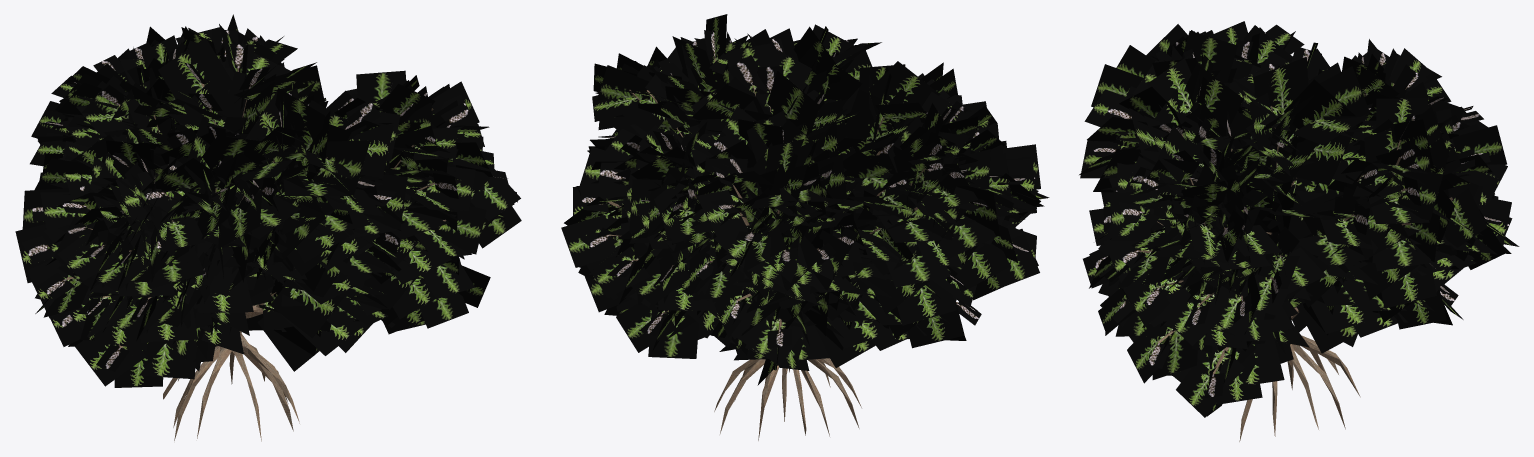
File: Bush_Myrtle_01.obj
The picture shows the model from 3 angles, left to right: view 1: azimuth 30°, elevation 25°; view 2: azimuth 150°, elevation 25°; view 3: azimuth 270°, elevation 25°; orthographic projection.
Visible parts, largest first — view 1: Bush_Myrtle_01; view 2: Bush_Myrtle_01; view 3: Bush_Myrtle_01.
Part boxes in pixels (x1=…): Bush_Myrtle_01: x1=15, y1=14, x2=521, y2=441; Bush_Myrtle_01: x1=561, y1=14, x2=1049, y2=440; Bush_Myrtle_01: x1=1079, y1=21, x2=1519, y2=441.
Bounding box in the file's own units: 0.884 × 0.6938 × 0.7385.
